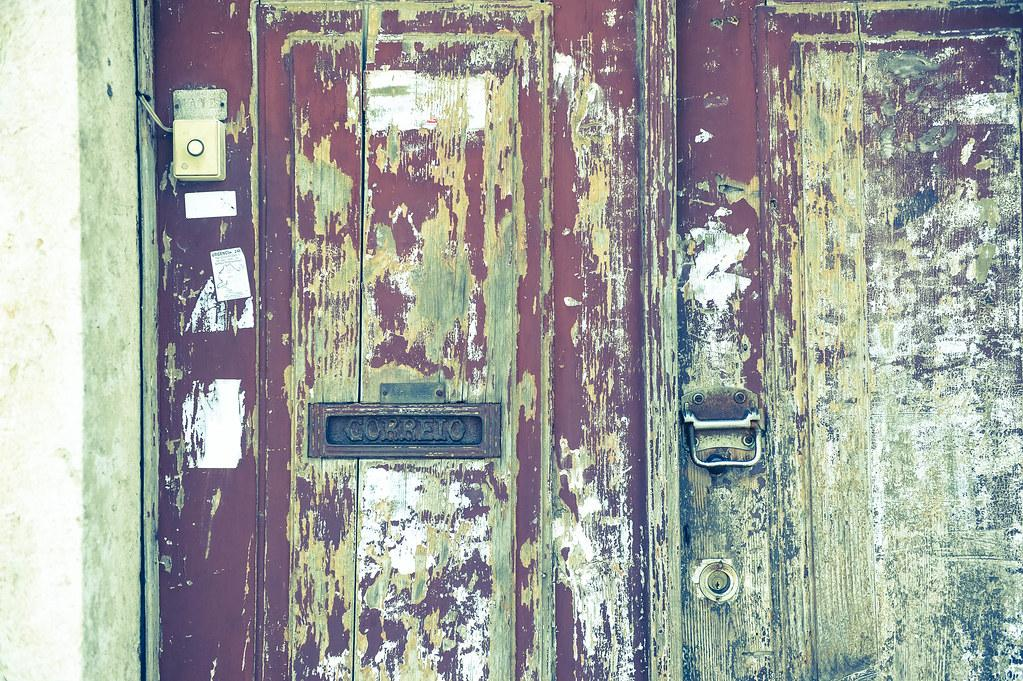door: (138, 1, 1021, 680)
